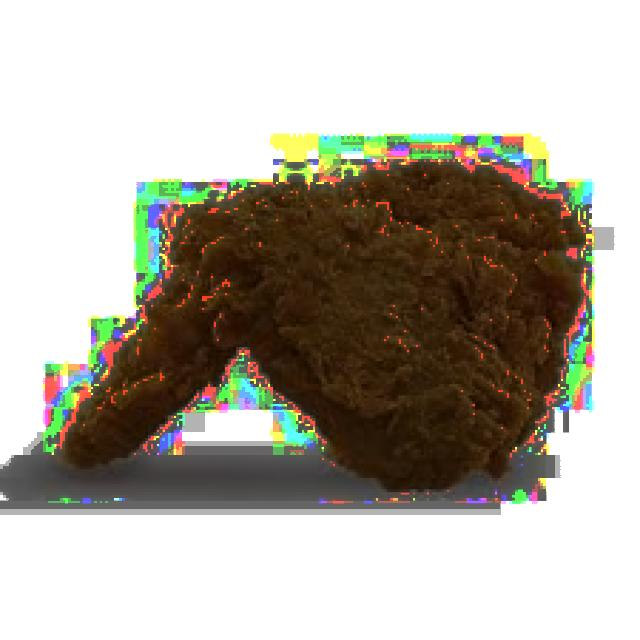fried_chicken: (60, 82, 589, 532)
